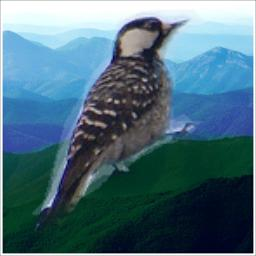Woodpecker: (24, 3, 208, 241)
